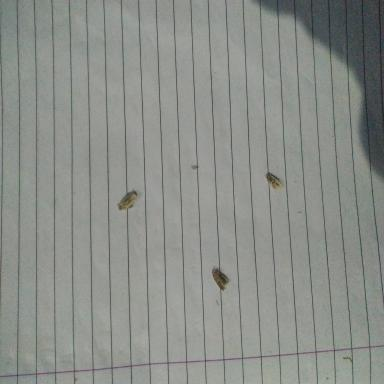pbw: (118, 189, 138, 211), (212, 267, 228, 291), (266, 172, 282, 192)
